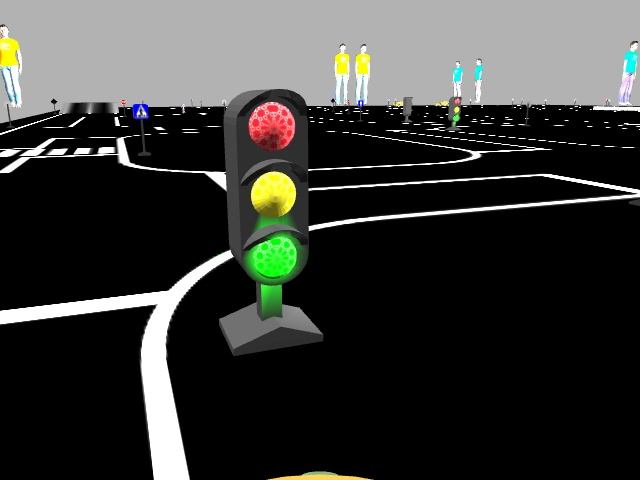Crosswalk: (133, 103, 147, 118)
TrafficLight: (224, 85, 308, 279)
